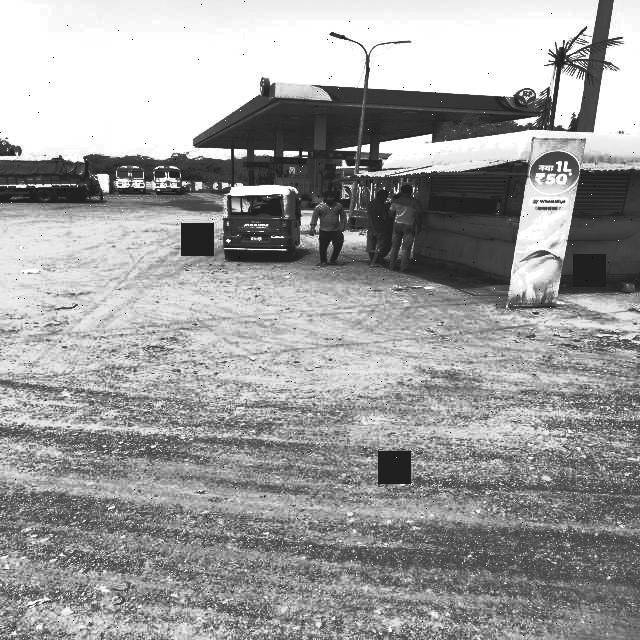Auto-Rickshaw: (218, 185, 304, 265)
